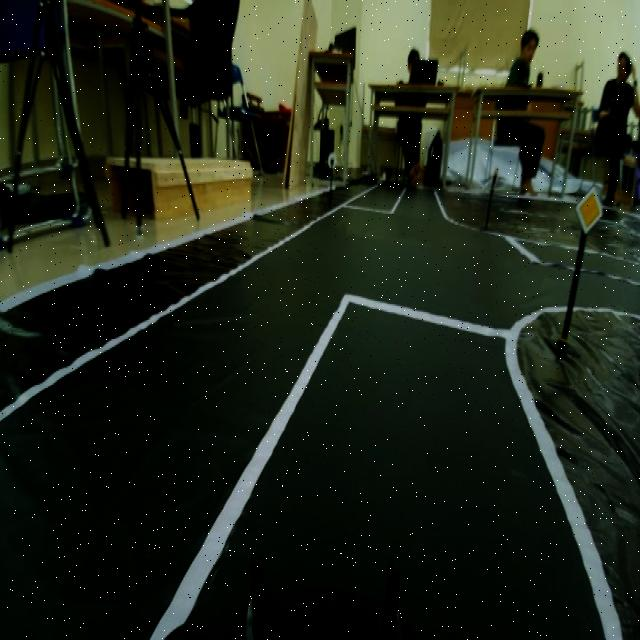priority: (571, 174, 607, 239)
